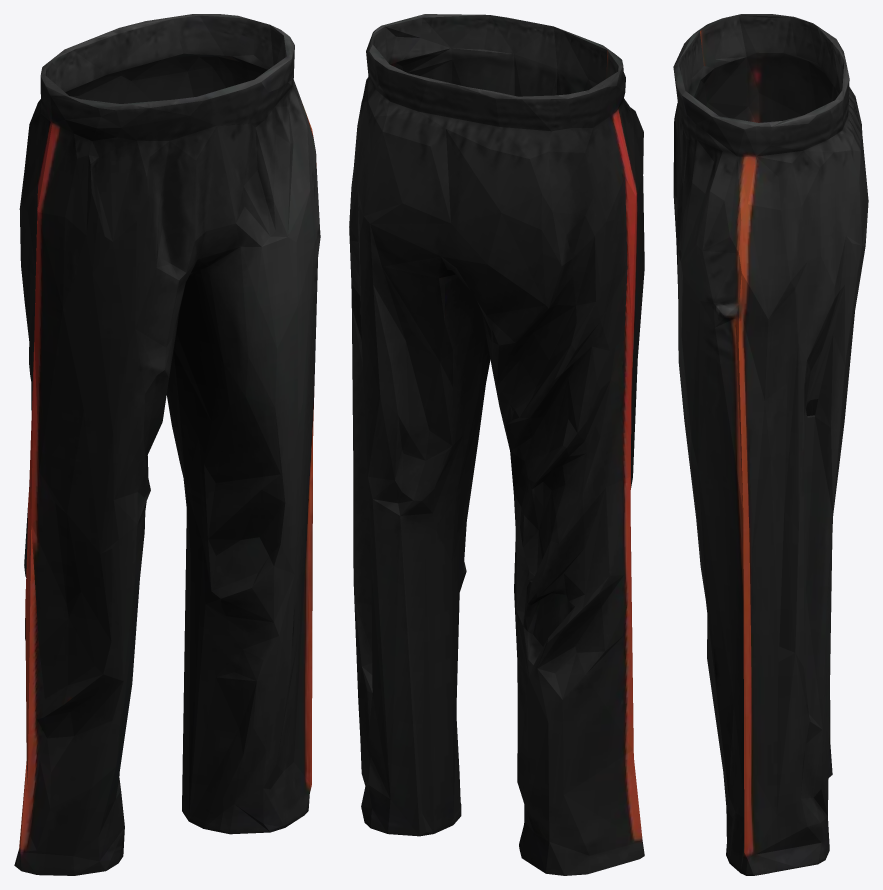
3 views of the same model, side by side, from view 1: azimuth 30°, elevation 25°; view 2: azimuth 150°, elevation 25°; view 3: azimuth 270°, elevation 25° (orthographic). The views are drawn at different scales.
Parts seen in each view (by area): view 1: geometry_0; view 2: geometry_0; view 3: geometry_0.
Boxes of the visible parts, box(x1,y1,x2,y2) form: geometry_0: box(14, 14, 320, 875); geometry_0: box(349, 14, 644, 875); geometry_0: box(673, 14, 868, 875).
Bounding box in the file's own units: 0.3864 × 0.9992 × 0.2356.
Materials: 1 (1 with a texture image).
